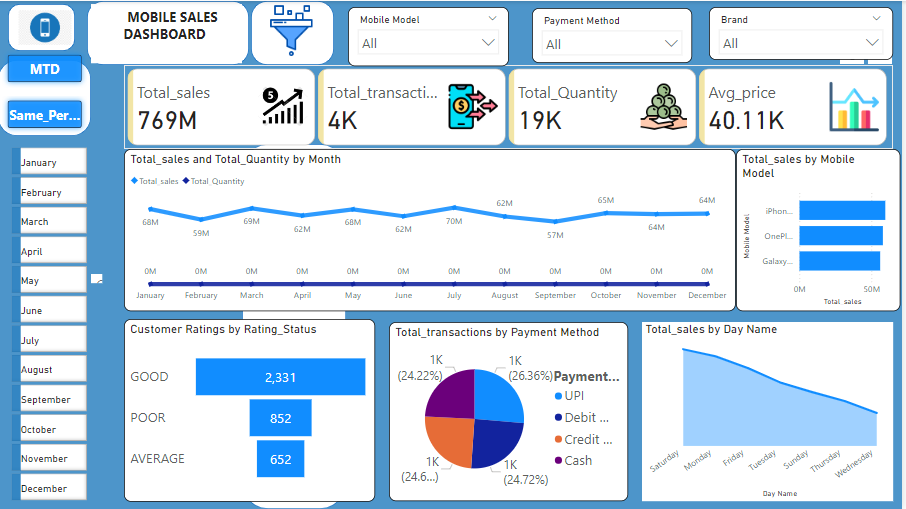

What the dashboard file says about the page in this screenshot:
{"tool":"powerbi","page":{"name":"Dashboard","canvas":[1280,720],"ordinal":1},"visuals":[{"type":"shape","box":[14.2,4.3,95,66.6],"z":0},{"type":"image","box":[24.1,7.1,85,60.9],"z":1000},{"type":"shape","box":[0,83.6,131.8,107.7],"z":2000},{"type":"shape","box":[345.8,202.7,147.4,517.3],"z":3000},{"type":"advancedSlicerVisual","fields":{"Values":["Custom_calender.Date.Variation.Date Hierarchy.Month"]},"box":[14.2,202.7,117.6,517.3],"z":4000},{"type":"cardVisual","fields":{"Data":["Mobile_Sales.Total_sales","Mobile_Sales.Total_transactions","Mobile_Sales.Total_Quantity","Mobile_Sales.Avg_price"]},"box":[178.6,90.7,1089.9,119.1],"z":5000},{"type":"slicer","fields":{"Values":["Mobile_Sales.Mobile Model"]},"box":[496.1,8.5,228.2,83.6],"z":6000},{"type":"slicer","fields":{"Values":["Mobile_Sales.Payment Method"]},"box":[756.9,9.9,226.8,78],"z":7000},{"type":"slicer","fields":{"Values":["Mobile_Sales.Brand"]},"box":[1007.7,8.5,260.8,75.1],"z":8000},{"type":"shape","box":[358.6,0,117.6,90.7],"z":9000},{"type":"image","box":[355.7,0,120.5,83.6],"z":10000},{"type":"shape","box":[126.1,0,229.6,90.7],"z":11000},{"type":"textbox","box":[131.8,4.3,214,83.6],"z":12000},{"type":"lineChart","fields":{"Y":["Mobile_Sales.Total_sales","Mobile_Sales.Total_Quantity"],"Category":["Custom_calender.Date.Variation.Date Hierarchy.Month"]},"box":[178.6,209.8,867.4,229.6],"z":13000},{"type":"funnel","title":" Customer Ratings by Rating_Status","fields":{"Category":["Mobile_Sales.Rating_Status"],"Y":["CountNonNull(Mobile_Sales.Customer Ratings)"]},"box":[178.1,450.2,356.1,258.7],"z":14000},{"type":"pieChart","fields":{"Y":["Mobile_Sales.Total_transactions"],"Category":["Mobile_Sales.Payment Method"]},"box":[554.3,455.2,339.3,253.6],"z":15000},{"type":"clusteredBarChart","fields":{"Y":["Mobile_Sales.Total_sales"],"Category":["Mobile_Sales.Mobile Model"]},"box":[1046.5,210,233.5,230.1],"z":16000},{"type":"areaChart","fields":{"Y":["Mobile_Sales.Total_sales"],"Category":["Custom_calender.Day Name"]},"box":[912.1,455.2,356.1,253.6],"z":17000},{"type":"columnChart","box":[131.8,386.9,15.6,12.8],"z":18000},{"type":"pageNavigator","box":[5.7,68,121.9,120.5],"z":19000}]}

Visuals, with their boxes in screenshot pixels (x1, y1, x2, y2), scaled from the page's 1280x720 canvas onto the 906x509 screenshot:
shape: select_region(10, 3, 77, 50)
image: select_region(17, 5, 77, 48)
shape: select_region(0, 59, 93, 135)
shape: select_region(245, 143, 349, 508)
advancedSlicerVisual - Custom_calender.Date.Variation.Date Hierarchy.Month: select_region(10, 143, 93, 508)
cardVisual - Mobile_Sales.Total_sales x Mobile_Sales.Total_transactions: select_region(126, 64, 898, 148)
slicer - Mobile_Sales.Mobile Model: select_region(351, 6, 513, 65)
slicer - Mobile_Sales.Payment Method: select_region(536, 7, 696, 62)
slicer - Mobile_Sales.Brand: select_region(713, 6, 898, 59)
shape: select_region(254, 0, 337, 64)
image: select_region(252, 0, 337, 59)
shape: select_region(89, 0, 252, 64)
textbox: select_region(93, 3, 245, 62)
lineChart - Mobile_Sales.Total_sales x Mobile_Sales.Total_Quantity: select_region(126, 148, 740, 311)
" Customer Ratings by Rating_Status" funnel: select_region(126, 318, 378, 501)
pieChart - Mobile_Sales.Total_transactions x Mobile_Sales.Payment Method: select_region(392, 322, 633, 501)
clusteredBarChart - Mobile_Sales.Total_sales x Mobile_Sales.Mobile Model: select_region(741, 148, 905, 311)
areaChart - Mobile_Sales.Total_sales x Custom_calender.Day Name: select_region(646, 322, 898, 501)
columnChart: select_region(93, 274, 104, 283)
pageNavigator: select_region(4, 48, 90, 133)
